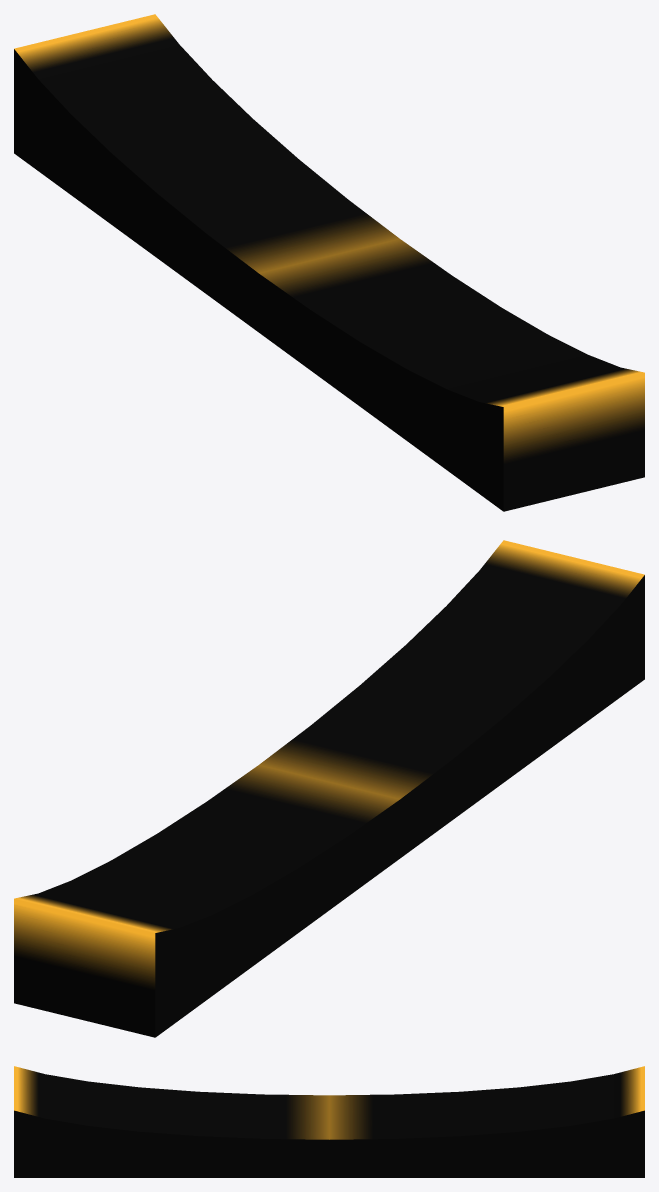
Rendered from road_single2.fbx.
3 views of the same model, one above another, from view 1: azimuth 30°, elevation 25°; view 2: azimuth 150°, elevation 25°; view 3: azimuth 270°, elevation 25° (orthographic). The views are drawn at different scales.
Visible parts, largest first — view 1: Cube.002; view 2: Cube.002; view 3: Cube.002.
Boxes of the visible parts, x1,y1,x2,y2 form: Cube.002: [14, 14, 644, 511]; Cube.002: [14, 540, 644, 1037]; Cube.002: [14, 1066, 644, 1177].
Bounding box in the file's own units: 200 × 142 × 1200.
